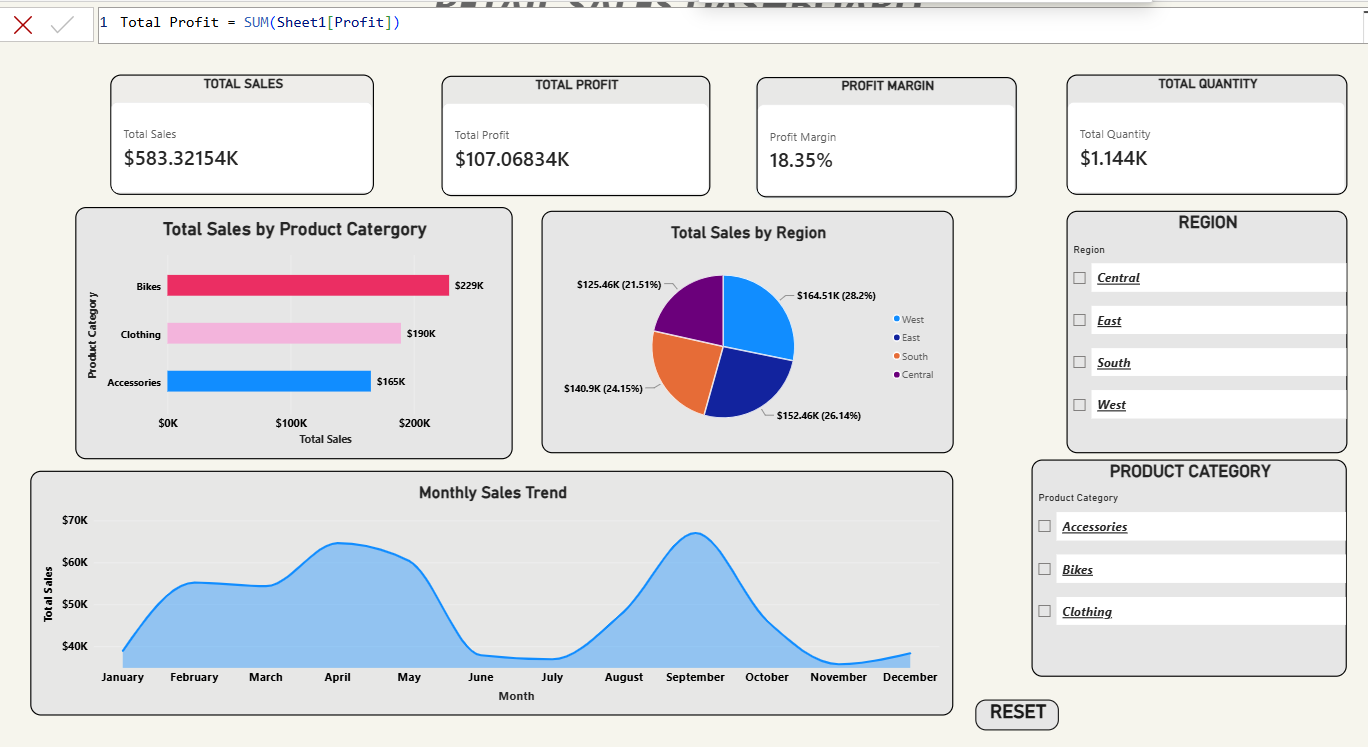

What the dashboard file says about the page in this screenshot:
{"tool":"powerbi","page":{"name":"Page 1","canvas":[1920,1080],"ordinal":0},"visuals":[{"type":"textbox","box":[612.2,0,727.3,87.2],"z":0},{"type":"cardVisual","title":"TOTAL SALES","fields":{"Data":["Sheet1.Total Sales"]},"box":[161.7,136.7,368.3,168.3],"z":1},{"type":"cardVisual","title":"TOTAL PROFIT","fields":{"Data":["Sheet1.Total Profit"]},"box":[625,138.3,375,168.3],"z":2},{"type":"cardVisual","title":"PROFIT MARGIN","fields":{"Data":["Sheet1.Profit Margin"]},"box":[1063.3,140,363.3,168.3],"z":3},{"type":"cardVisual","title":"TOTAL QUANTITY","fields":{"Data":["Sheet1.Total Quantity"]},"box":[1496.7,136.7,391.7,168.3],"z":4},{"type":"clusteredBarChart","title":"Total Sales by Product Catergory","fields":{"Category":["Sheet1.Product Category"],"Y":["Sheet1.Total Sales"]},"box":[113.3,321.7,610,351.7],"z":5},{"type":"pieChart","title":"Total Sales by Region","fields":{"Category":["Sheet1.Region"],"Y":["Sheet1.Total Sales"]},"box":[763.3,326.7,575,338.3],"z":6},{"type":"areaChart","title":"Monthly Sales Trend","fields":{"Category":["Sheet1.Order Date.Variation.Date Hierarchy.Month"],"Y":["Sheet1.Total Sales"]},"box":[50,688.3,1288.3,341.7],"z":7},{"type":"slicer","title":"PRODUCT CATEGORY","fields":{"Values":["Sheet1.Product Category"]},"box":[1448.3,673.3,440,303.3],"z":9},{"type":"actionButton","title":"RESET","box":[1368.3,1008.3,116.7,43.3],"z":10},{"type":"slicer","title":"REGION","fields":{"Values":["Sheet1.Region"]},"box":[1497,327,392,338],"z":11}]}

Visuals, with their boxes in screenshot pixels (x1, y1, x2, y2):
textbox: crop(434, 0, 949, 40)
"TOTAL SALES" cardVisual: crop(115, 75, 375, 195)
"TOTAL PROFIT" cardVisual: crop(443, 77, 708, 196)
"PROFIT MARGIN" cardVisual: crop(753, 78, 1010, 197)
"TOTAL QUANTITY" cardVisual: crop(1060, 75, 1337, 195)
"Total Sales by Product Catergory" clusteredBarChart: crop(80, 206, 512, 456)
"Total Sales by Region" pieChart: crop(541, 210, 948, 450)
"Monthly Sales Trend" areaChart: crop(35, 466, 948, 708)
"PRODUCT CATEGORY" slicer: crop(1026, 455, 1337, 670)
"RESET" actionButton: crop(969, 693, 1052, 723)
"REGION" slicer: crop(1060, 210, 1338, 450)
